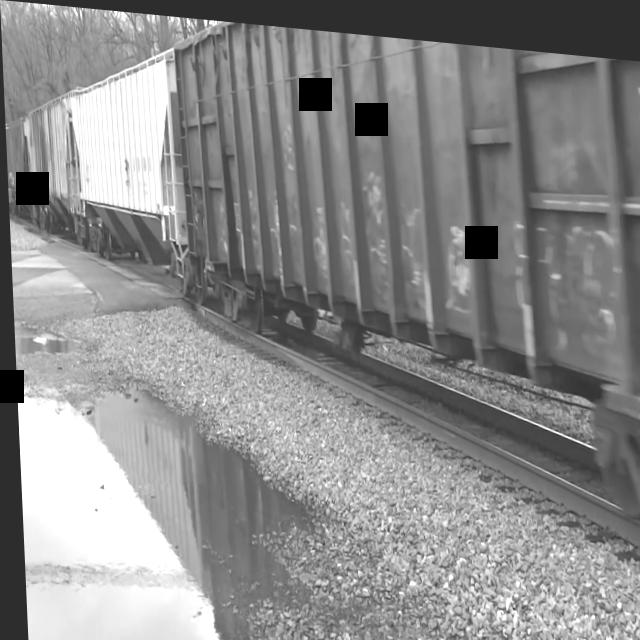gondola: (160, 12, 640, 423)
hopper: (61, 23, 181, 286)
